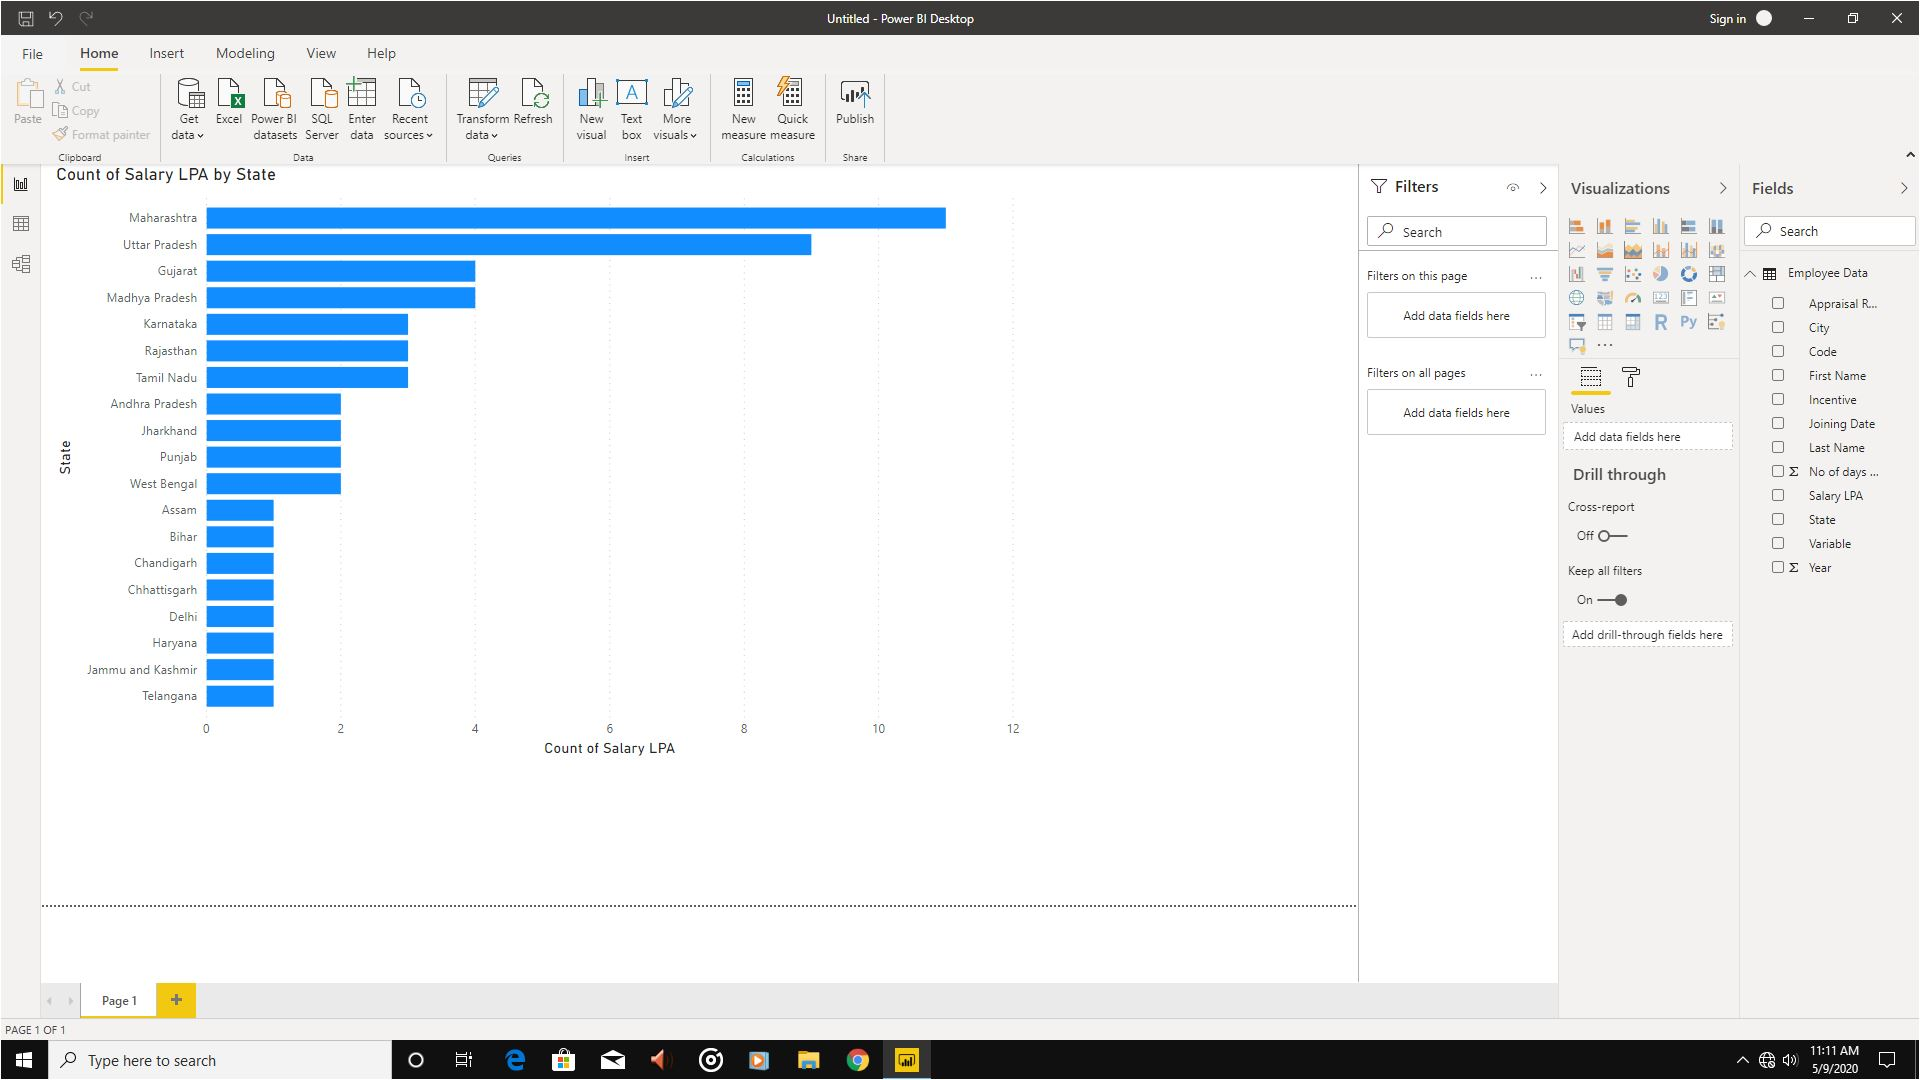

The dashboard page shown, as its layout file describes it:
{"tool":"powerbi","page":{"name":"Page 1","canvas":[1280,720],"ordinal":0},"visuals":[{"type":"barChart","fields":{"Category":["Employee Data.State"],"Y":["CountNonNull(Employee Data.Salary LPA)"]},"box":[9.7,0,946.6,580.2],"z":0}]}

Visuals, with their boxes on the page's 1280x720 design canvas (x1, y1, x2, y2). These are canvas units, not pixel positions in the 1920x1080 screenshot, which may show the page scaled, cropped or inside an application window:
barChart - Employee Data.State x CountNonNull(Employee Data.Salary LPA): locate(10, 0, 956, 580)
